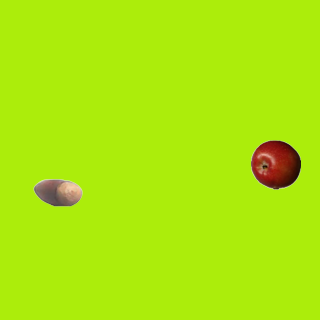Apple Braeburn: (250, 139, 300, 189)
Hazelnut: (32, 167, 82, 217)
